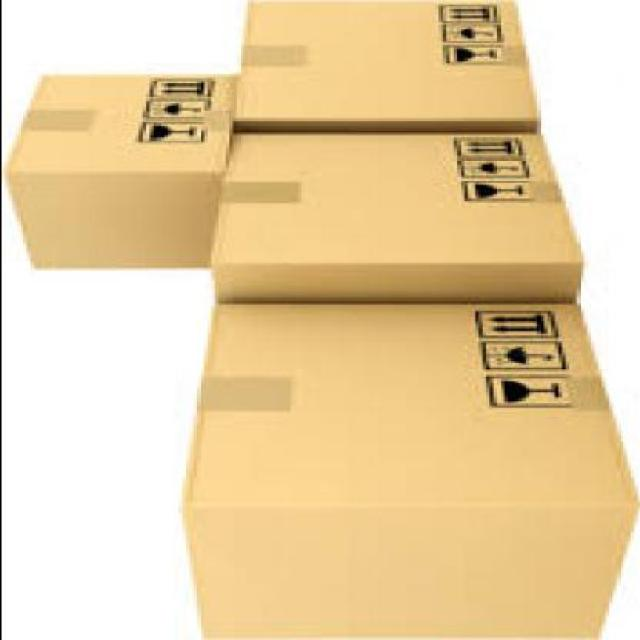CARDBOARD: (175, 303, 637, 639), (202, 133, 582, 307), (1, 75, 232, 277), (224, 2, 536, 135)
